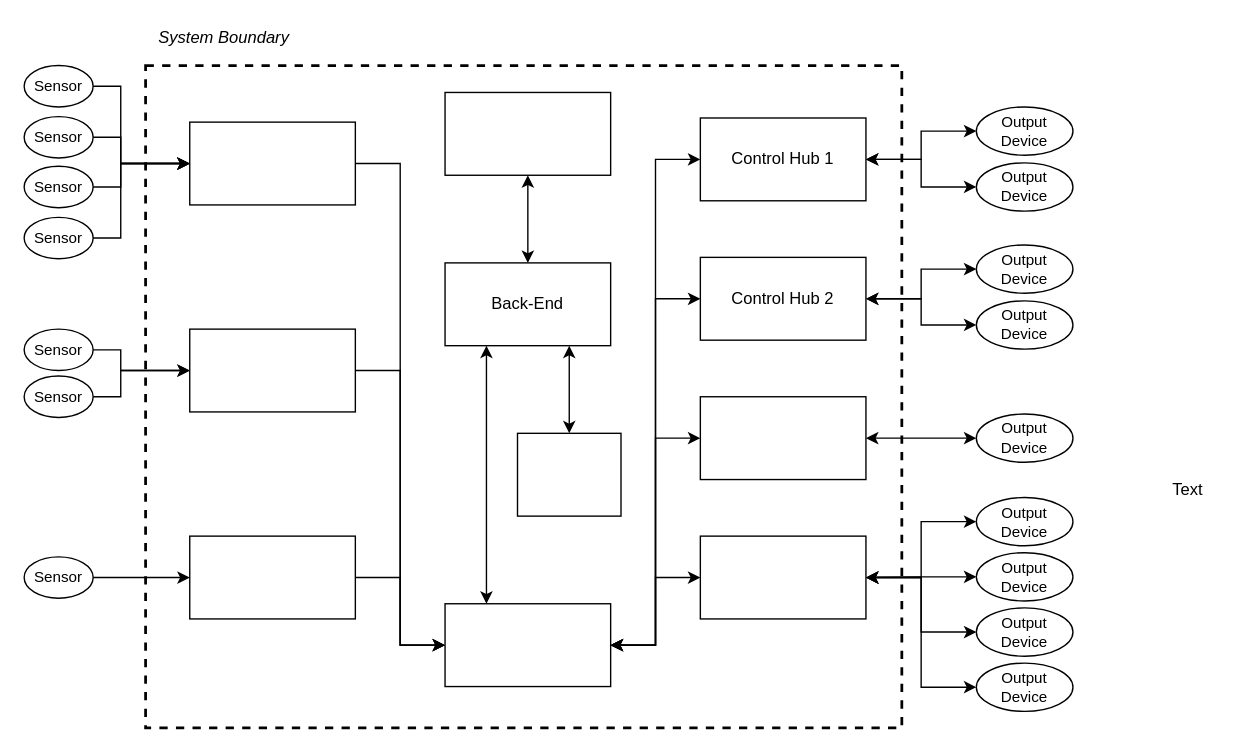
Some shapes in this 1239 by 752 pixel diagram are drawn without their labels. Each missing label, with the box of its shape:
Client: (444, 91, 611, 175)
Control Hub 3: (699, 395, 866, 480)
Control Hub 4: (699, 535, 866, 619)
Database: (516, 432, 621, 516)
I/O Core: (444, 602, 611, 687)
Sensor Hub 1: (188, 121, 355, 205)
Sensor Hub 2: (188, 328, 355, 412)
Sensor Hub 3: (188, 535, 355, 619)
